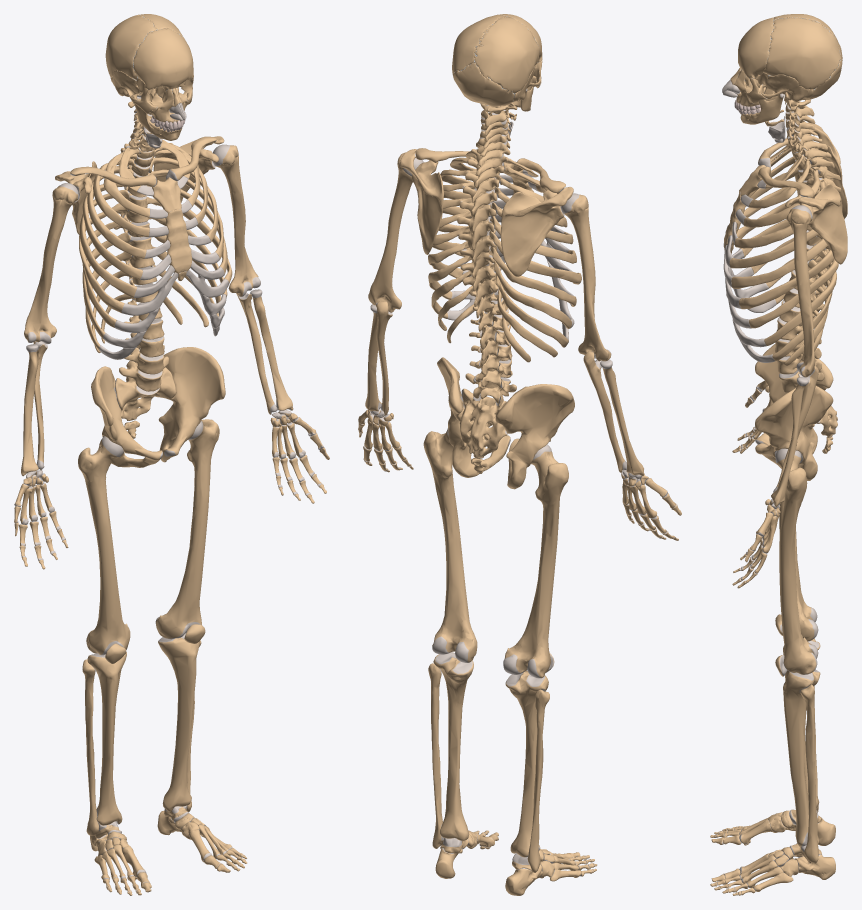
The model's file is skeletal.glb.
The picture shows the model from 3 angles, left to right: view 1: azimuth 30°, elevation 25°; view 2: azimuth 150°, elevation 25°; view 3: azimuth 270°, elevation 25°; orthographic projection. The views are drawn at different scales.
Parts seen in each view (by area): view 1: Femur.r surface 0, Femur.l surface 0, Hip bone.l surface 1, Tibia.l surface 0, Frontal bone surface 0, Tibia.r surface 0, Humerus.r surface 0, Humerus.l surface 0, Parietal bone.r surface 0, Hip bone.r surface 1, Sacrum surface 0, Fibula.r surface 0 (+17 smaller); view 2: Femur.r surface 0, Femur.l surface 0, Scapula.r surface 0, Hip bone.r surface 1, Parietal bone.r surface 0, Tibia.l surface 0, Tibia.r surface 0, Humerus.r surface 0, Scapula.l surface 0, Humerus.l surface 0, Sacrum surface 0, Fibula.r surface 0 (+17 smaller); view 3: Femur.l surface 0, Parietal bone.l surface 0, Tibia.l surface 0, Hip bone.l surface 1, Humerus.l surface 0, Scapula.l surface 0, Fibula.l surface 0, Frontal bone surface 0, Hip bone.r surface 1, Radius.l surface 0, Seventh rib.l surface 0, Sixth rib.l surface 0 (+29 smaller).
Boxes of the visible parts, x1,y1,x2,y2 form: Femur.r surface 0: (78,440,130,654); Femur.l surface 0: (156,419,219,638); Hip bone.l surface 1: (164,347,225,426); Tibia.l surface 0: (158,637,200,811); Frontal bone surface 0: (133,28,193,91); Tibia.r surface 0: (87,652,126,825); Humerus.r surface 0: (24,186,77,342); Humerus.l surface 0: (216,145,258,296); Parietal bone.r surface 0: (105,15,156,79); Hip bone.r surface 1: (91,366,130,445); Sacrum surface 0: (115,367,175,420); Fibula.r surface 0: (82,659,99,835); Femur.r surface 0: (504,451,568,677); Femur.l surface 0: (423,430,477,662); Scapula.r surface 0: (500,187,573,276); Hip bone.r surface 1: (495,384,574,458); Parietal bone.r surface 0: (474,16,539,93); Tibia.l surface 0: (433,652,473,840); Tibia.r surface 0: (505,671,548,857); Humerus.r surface 0: (563,194,611,361); Scapula.l surface 0: (400,149,443,254); Humerus.l surface 0: (368,152,412,312); Sacrum surface 0: (459,388,506,458); Fibula.r surface 0: (527,689,549,872); Femur.l surface 0: (776,455,816,674); Parietal bone.l surface 0: (763,17,840,89); Tibia.l surface 0: (783,671,820,846); Hip bone.l surface 1: (755,386,833,456); Humerus.l surface 0: (786,209,815,377); Scapula.l surface 0: (785,183,847,264); Fibula.l surface 0: (800,684,818,863); Frontal bone surface 0: (738,17,774,78); Hip bone.r surface 1: (755,343,833,403); Radius.l surface 0: (771,384,805,506); Seventh rib.l surface 0: (739,249,834,309); Sixth rib.l surface 0: (731,238,827,288).
Bounding box in the file's own units: 0.6692 × 1.7 × 0.2501.
